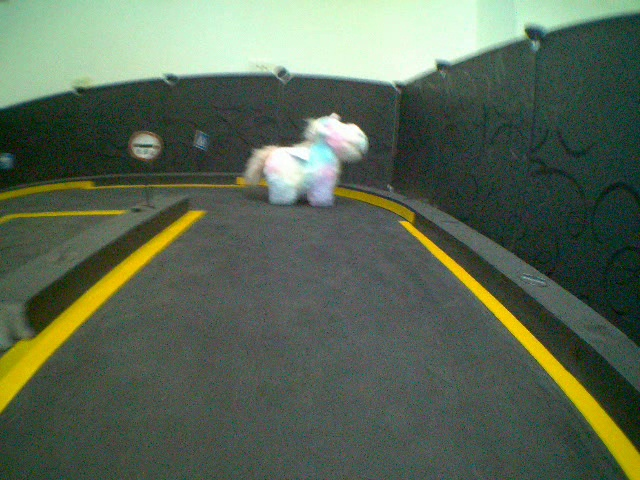unicorn: (243, 112, 370, 208)
